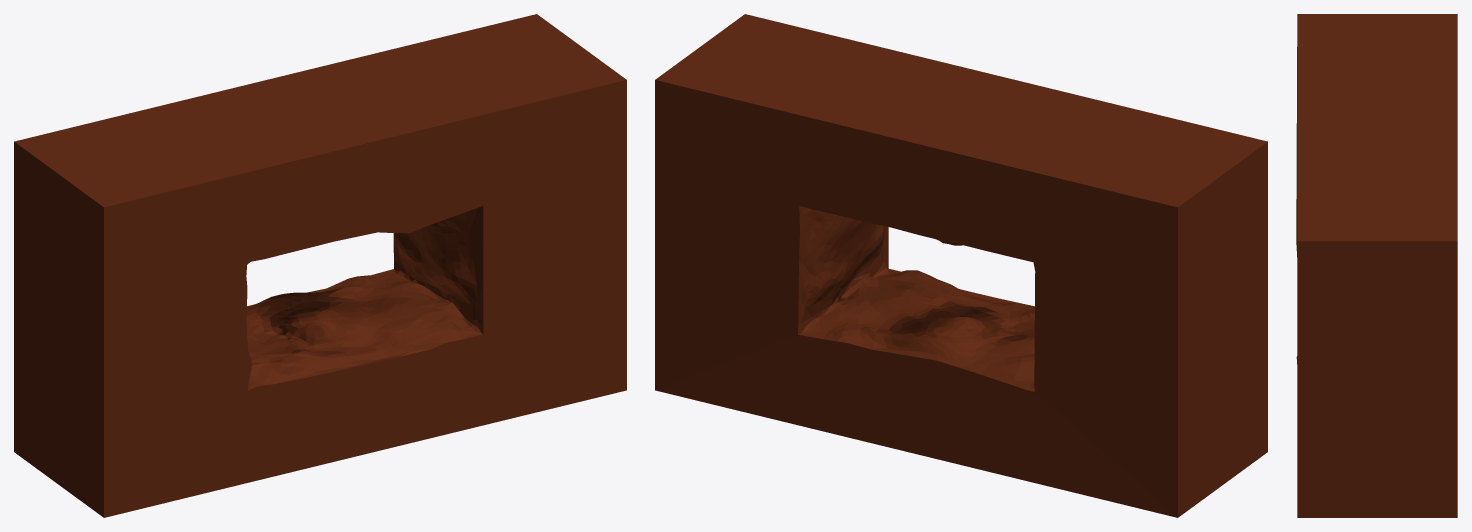
File: BaseWorld_Level_10.glb
3 views of the same model, side by side, from view 1: azimuth 30°, elevation 25°; view 2: azimuth 150°, elevation 25°; view 3: azimuth 270°, elevation 25° (orthographic). The views are drawn at different scales.
Parts seen in each view (by area): view 1: Cube; view 2: Cube; view 3: Cube.
Part boxes in pixels (box(x1,y1,x2,y2)): Cube: box(14, 14, 626, 517); Cube: box(655, 14, 1267, 517); Cube: box(1296, 14, 1457, 517).
Bounding box in the file's own units: 67.08 × 38.07 × 20.13.
